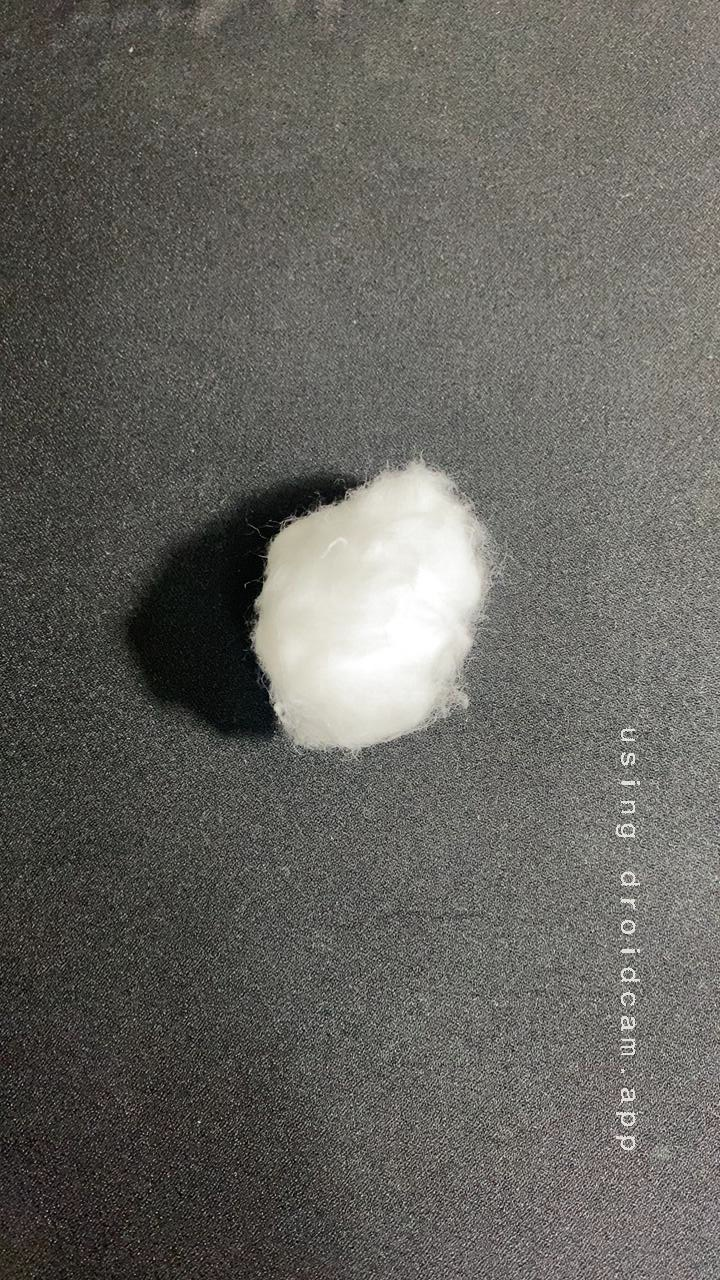cotton: (231, 440, 521, 762)
